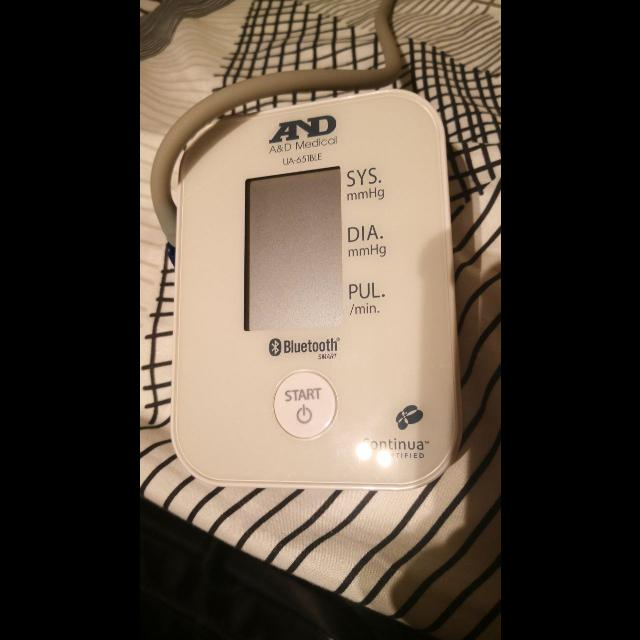Blood-Pressure-Monitor: (168, 86, 454, 488)
